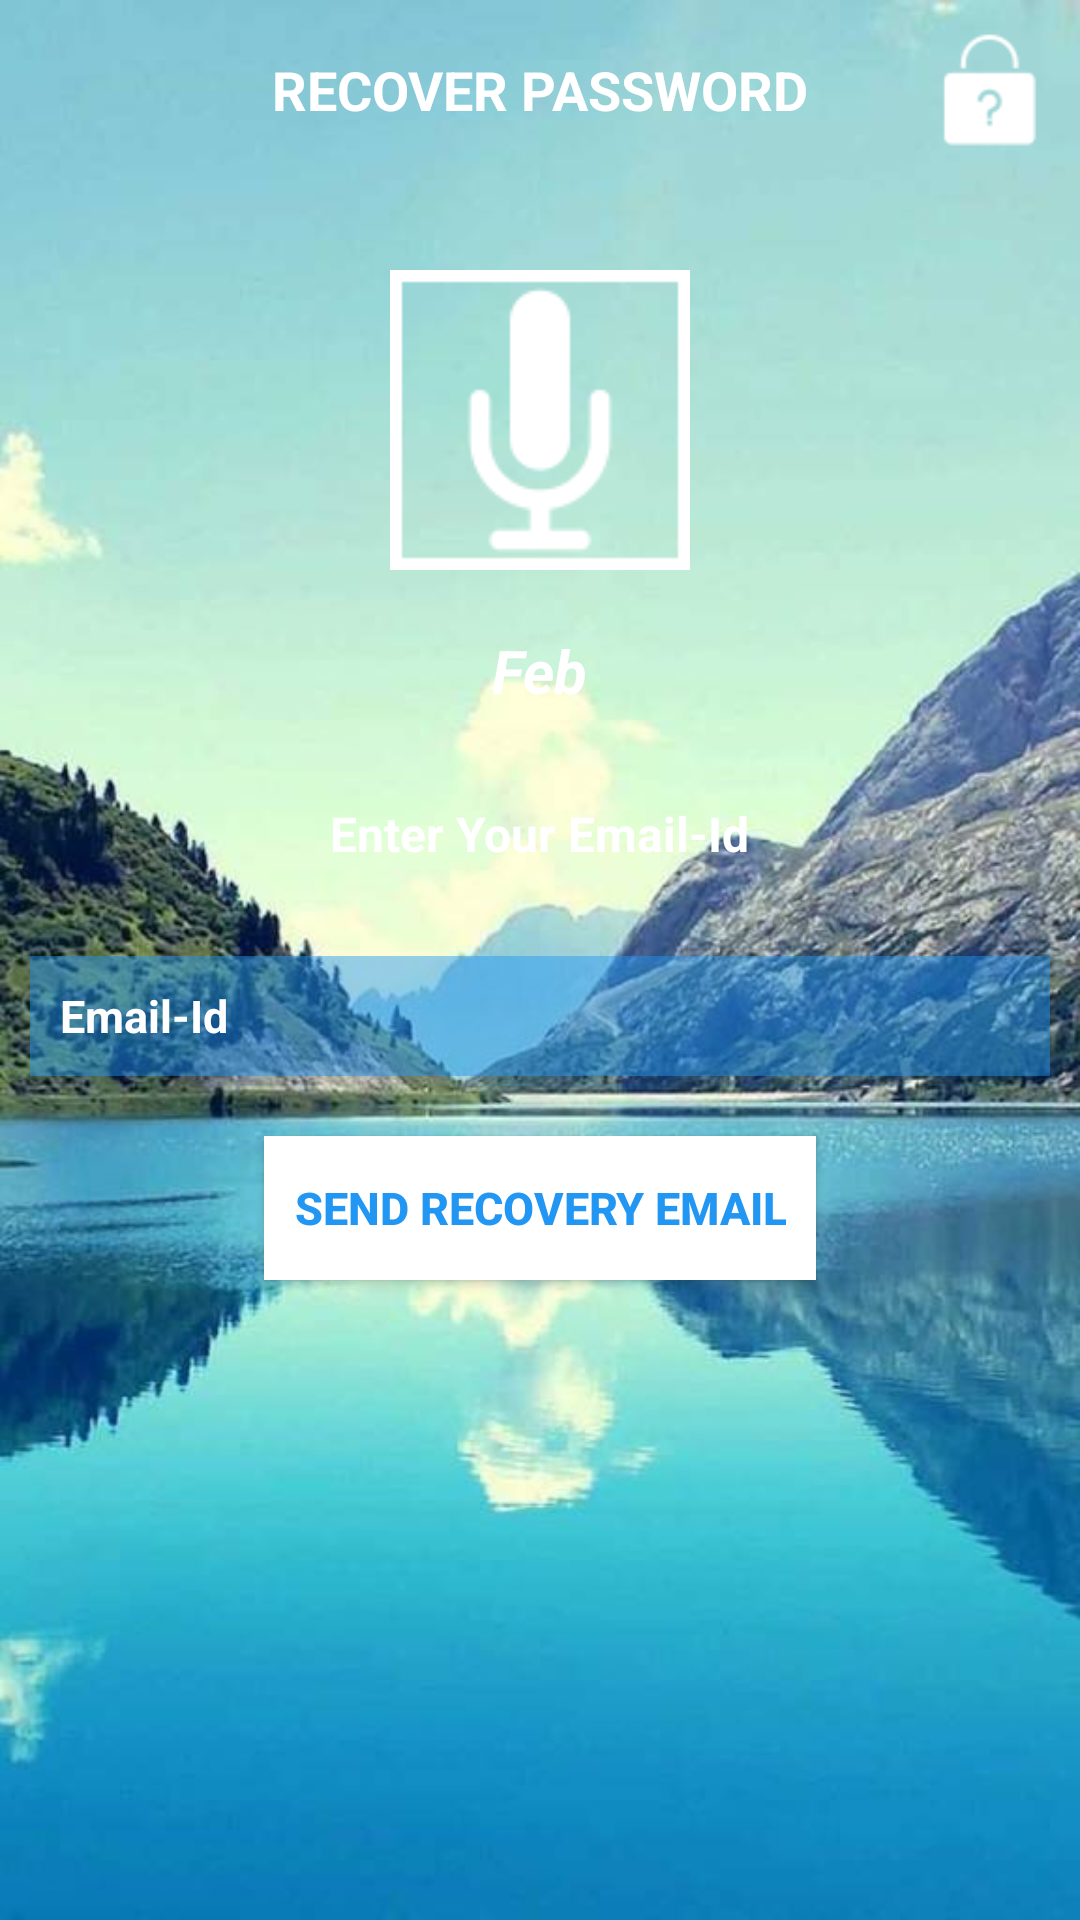

Screen size 1080×1920. Icon name, then its center in pixels as (x=x, y=y):
lsr me rec pass: (x=990, y=89)
